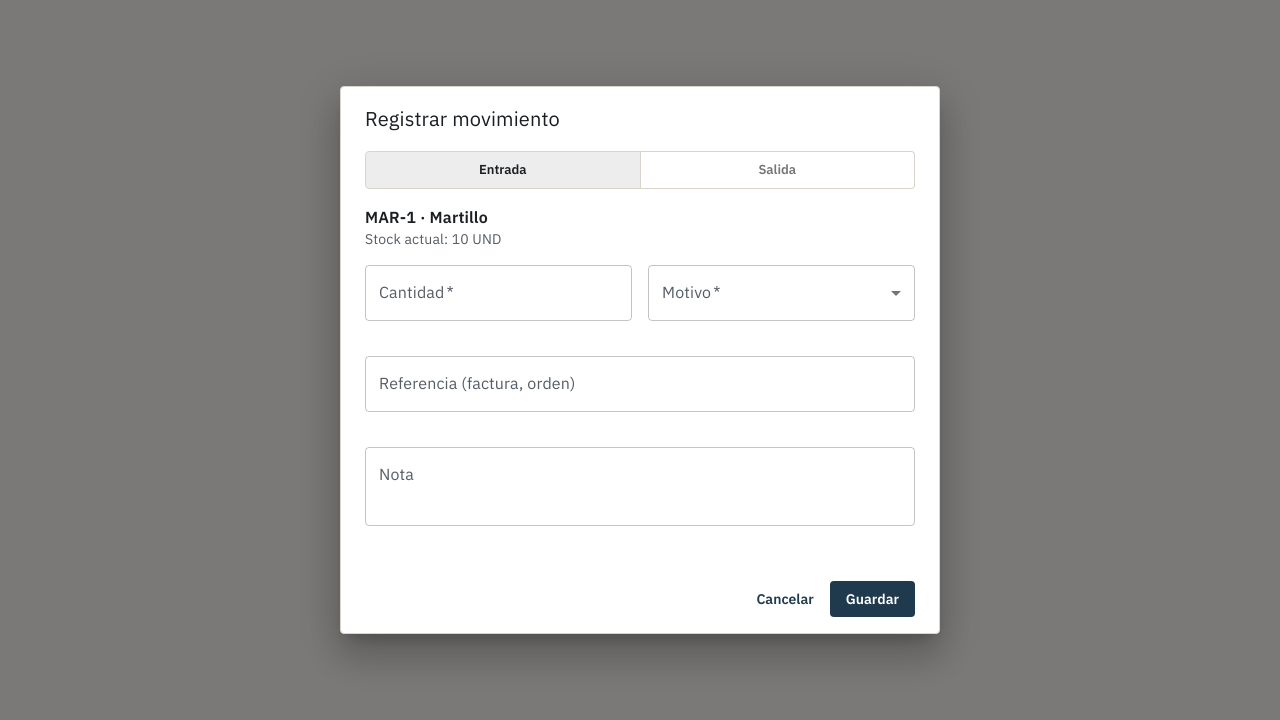
Test: MovimientoDialog › los motivos dependen del tipo elegido
Click the dropdown named "Motivo": [782, 293] box [648,265,915,321]
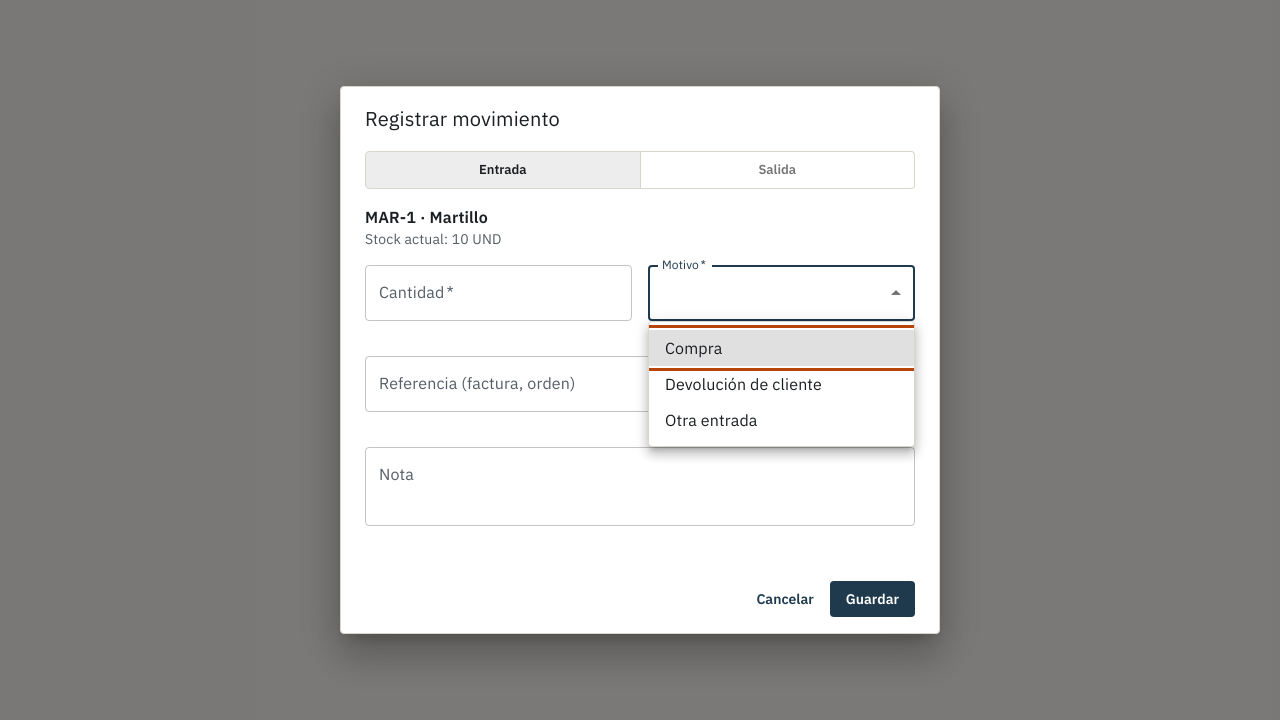
Expected: the option "Venta" is not shown
Result: the option "Compra" is shown at [649,330,914,366]
Press Escape
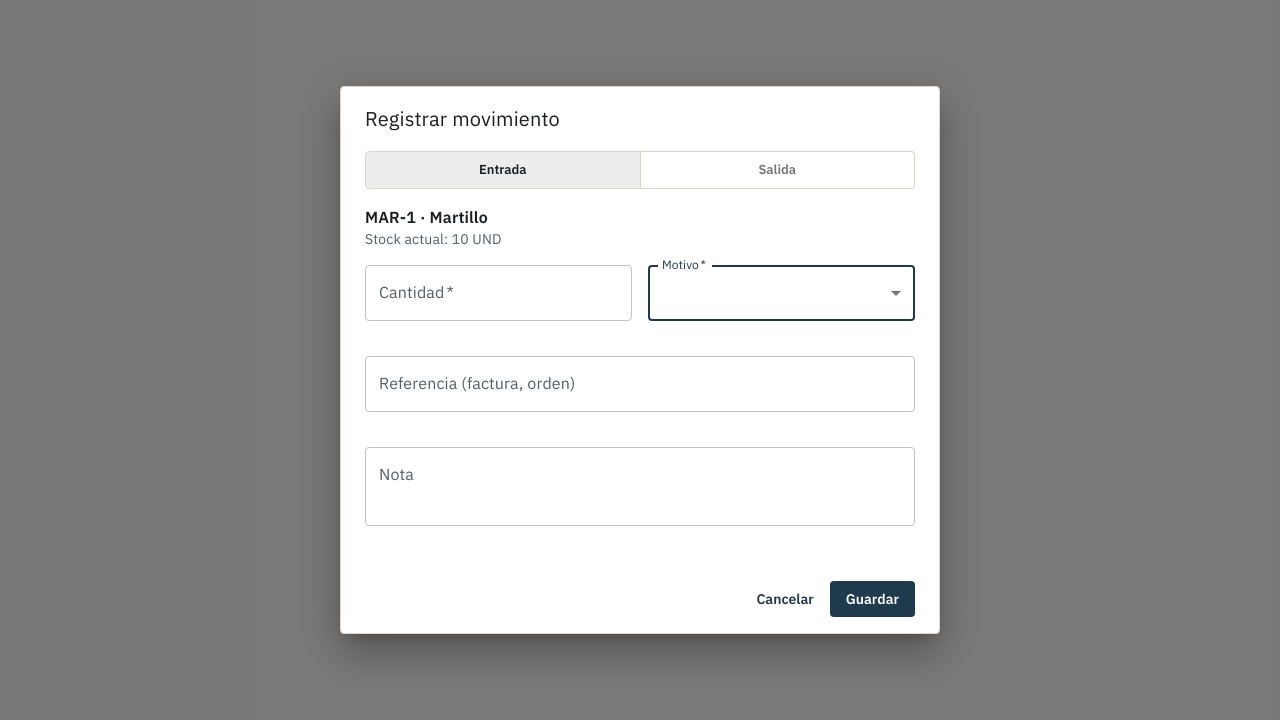
Click the button "Salida": [777, 170] box [640,150,915,189]
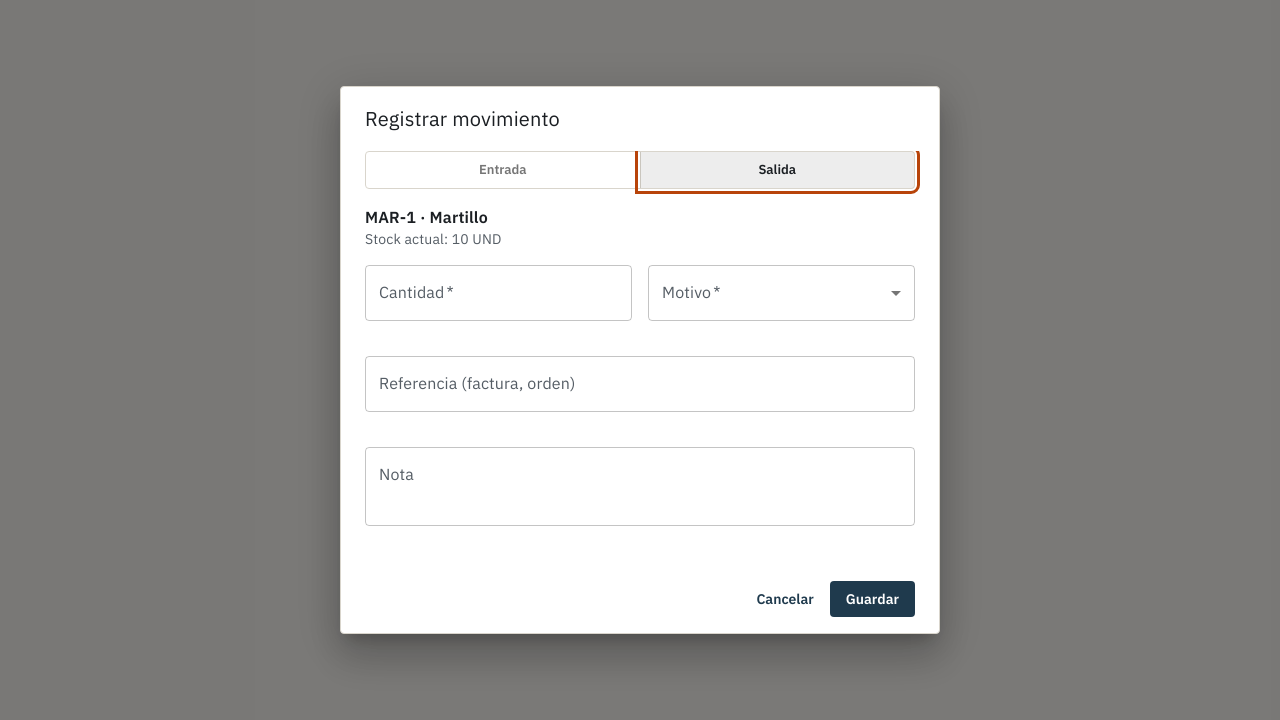
Click the dropdown named "Motivo": [782, 293] box [648,265,915,321]
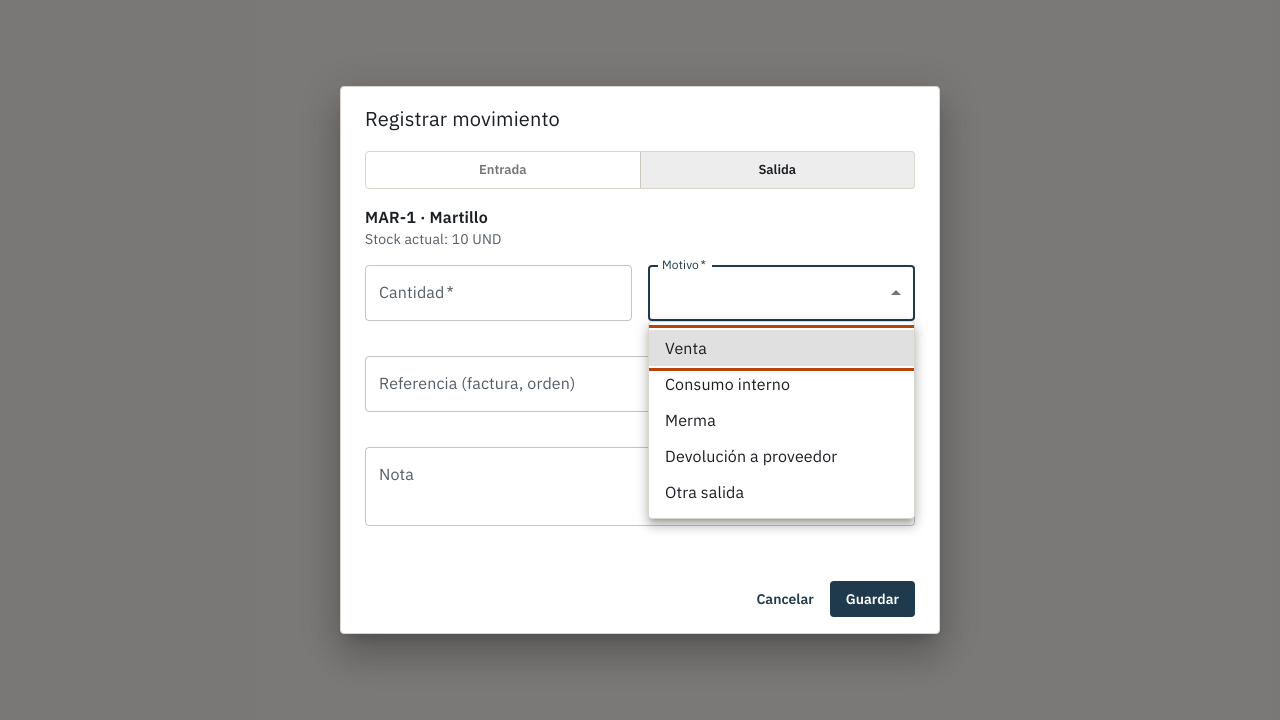
Expected: the option "Compra" is not shown
Result: the option "Venta" is shown at [649,330,914,366]
Result: the option "Merma" is shown at [665,410,716,430]
